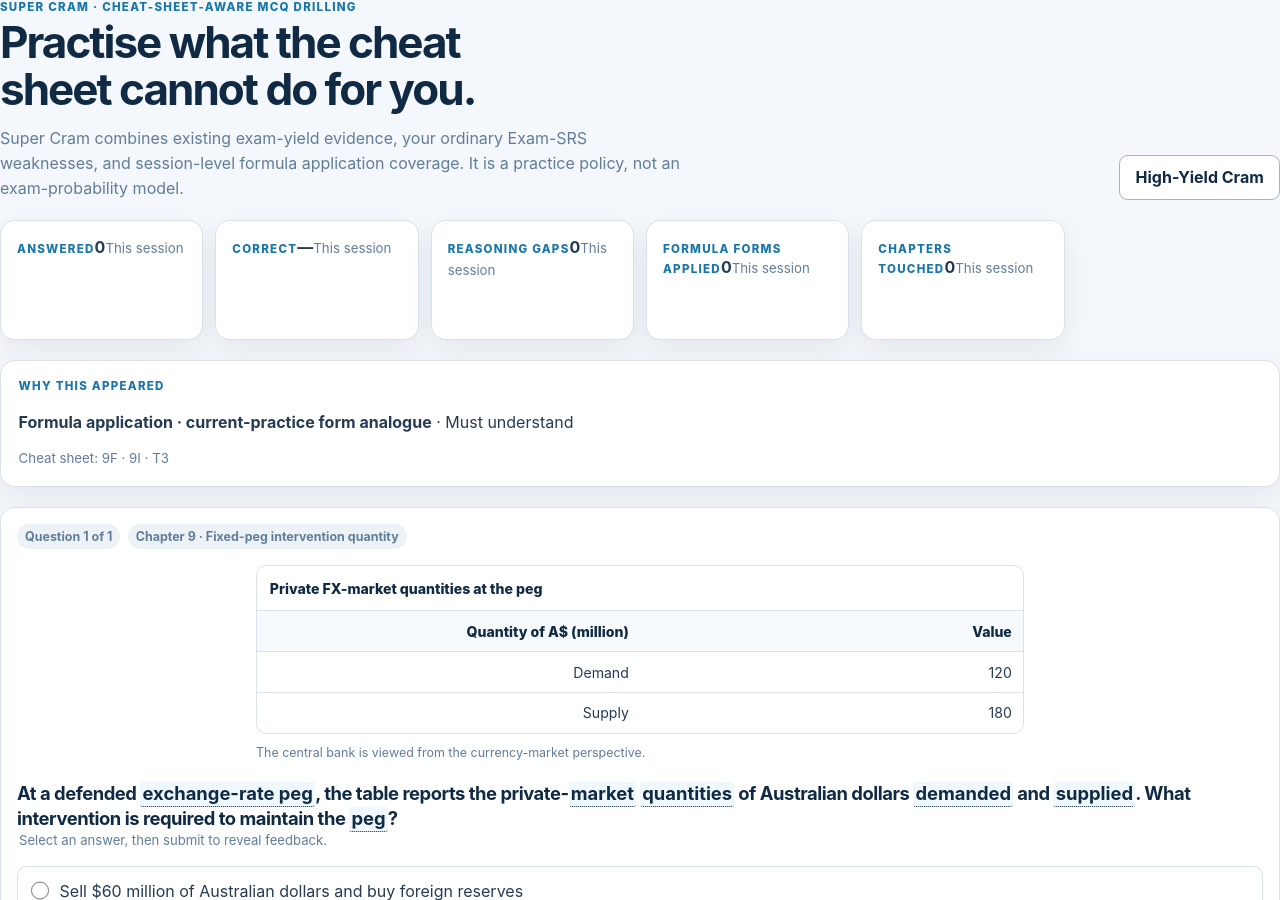
Test case: Super Cram and Formula Application practice surfaces › records Super Cram as ordinary MCQ evidence with response time
Step 1. Click the radio button → {"x": 40, "y": 891}, box left=31, top=882, right=49, bottom=899
(page scrolled)
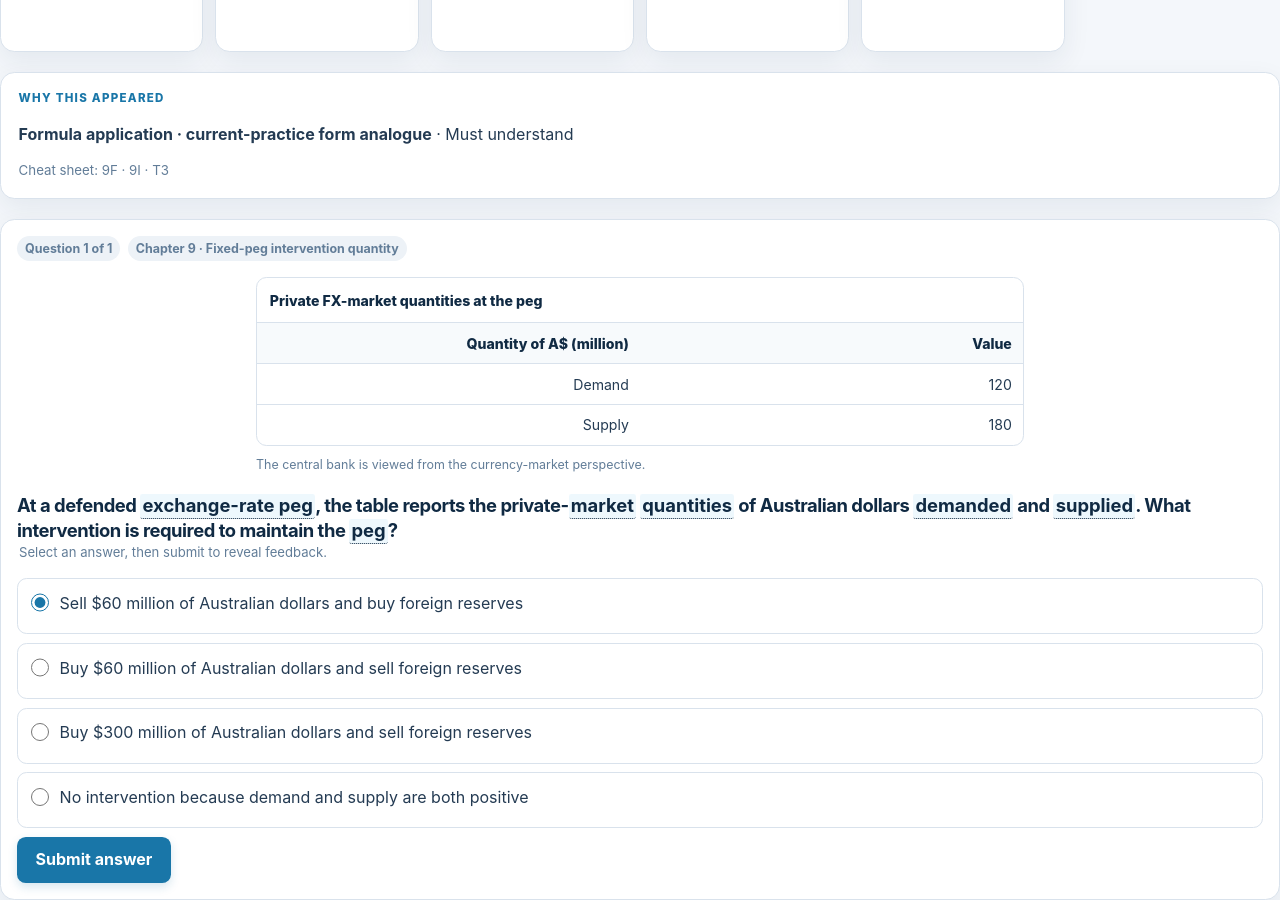
Step 2. Click the button "Submit answer" → {"x": 94, "y": 860}, box left=17, top=837, right=171, bottom=883
(page scrolled)
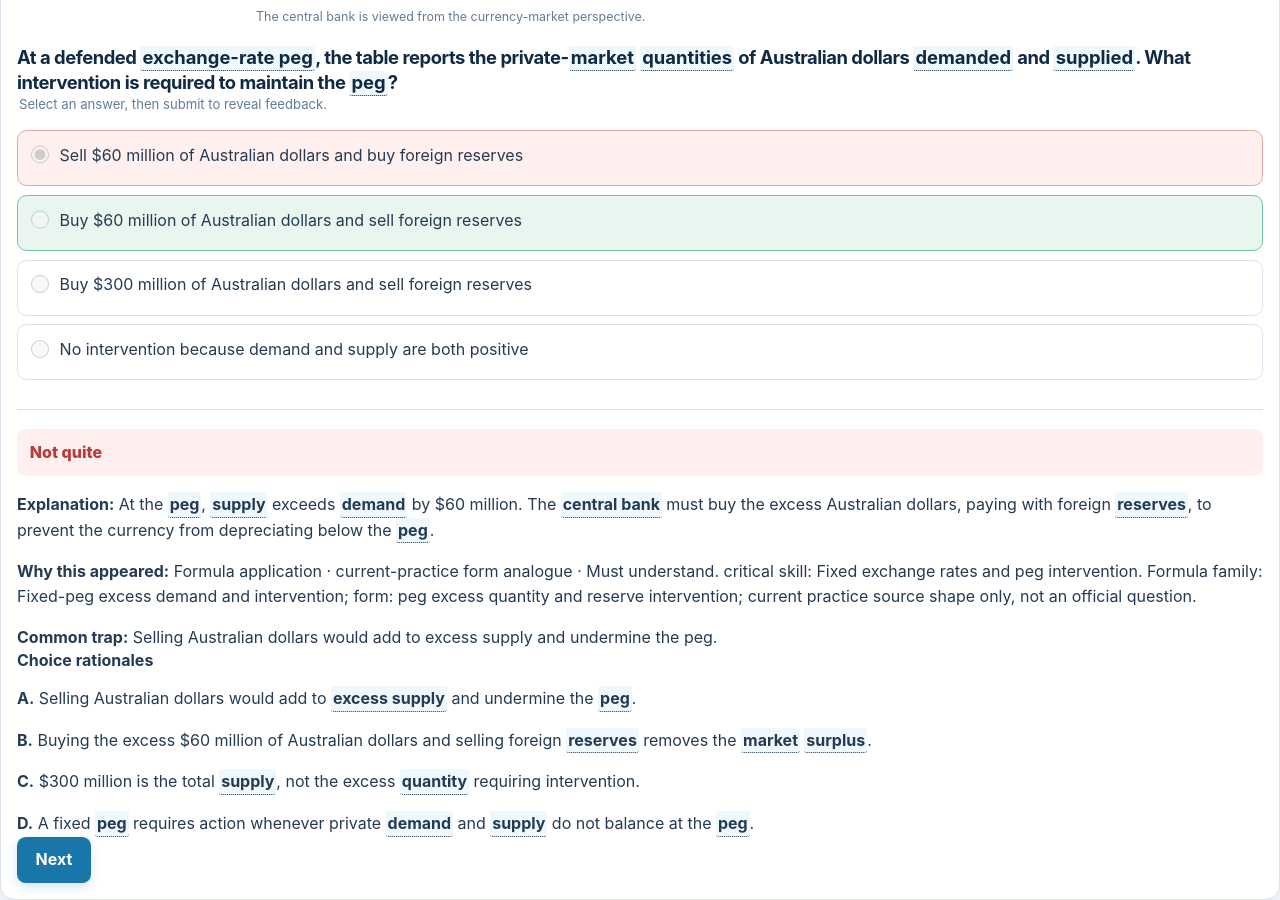
Result: the text "Why this appeared:" is shown at left=17, top=561, right=169, bottom=581
